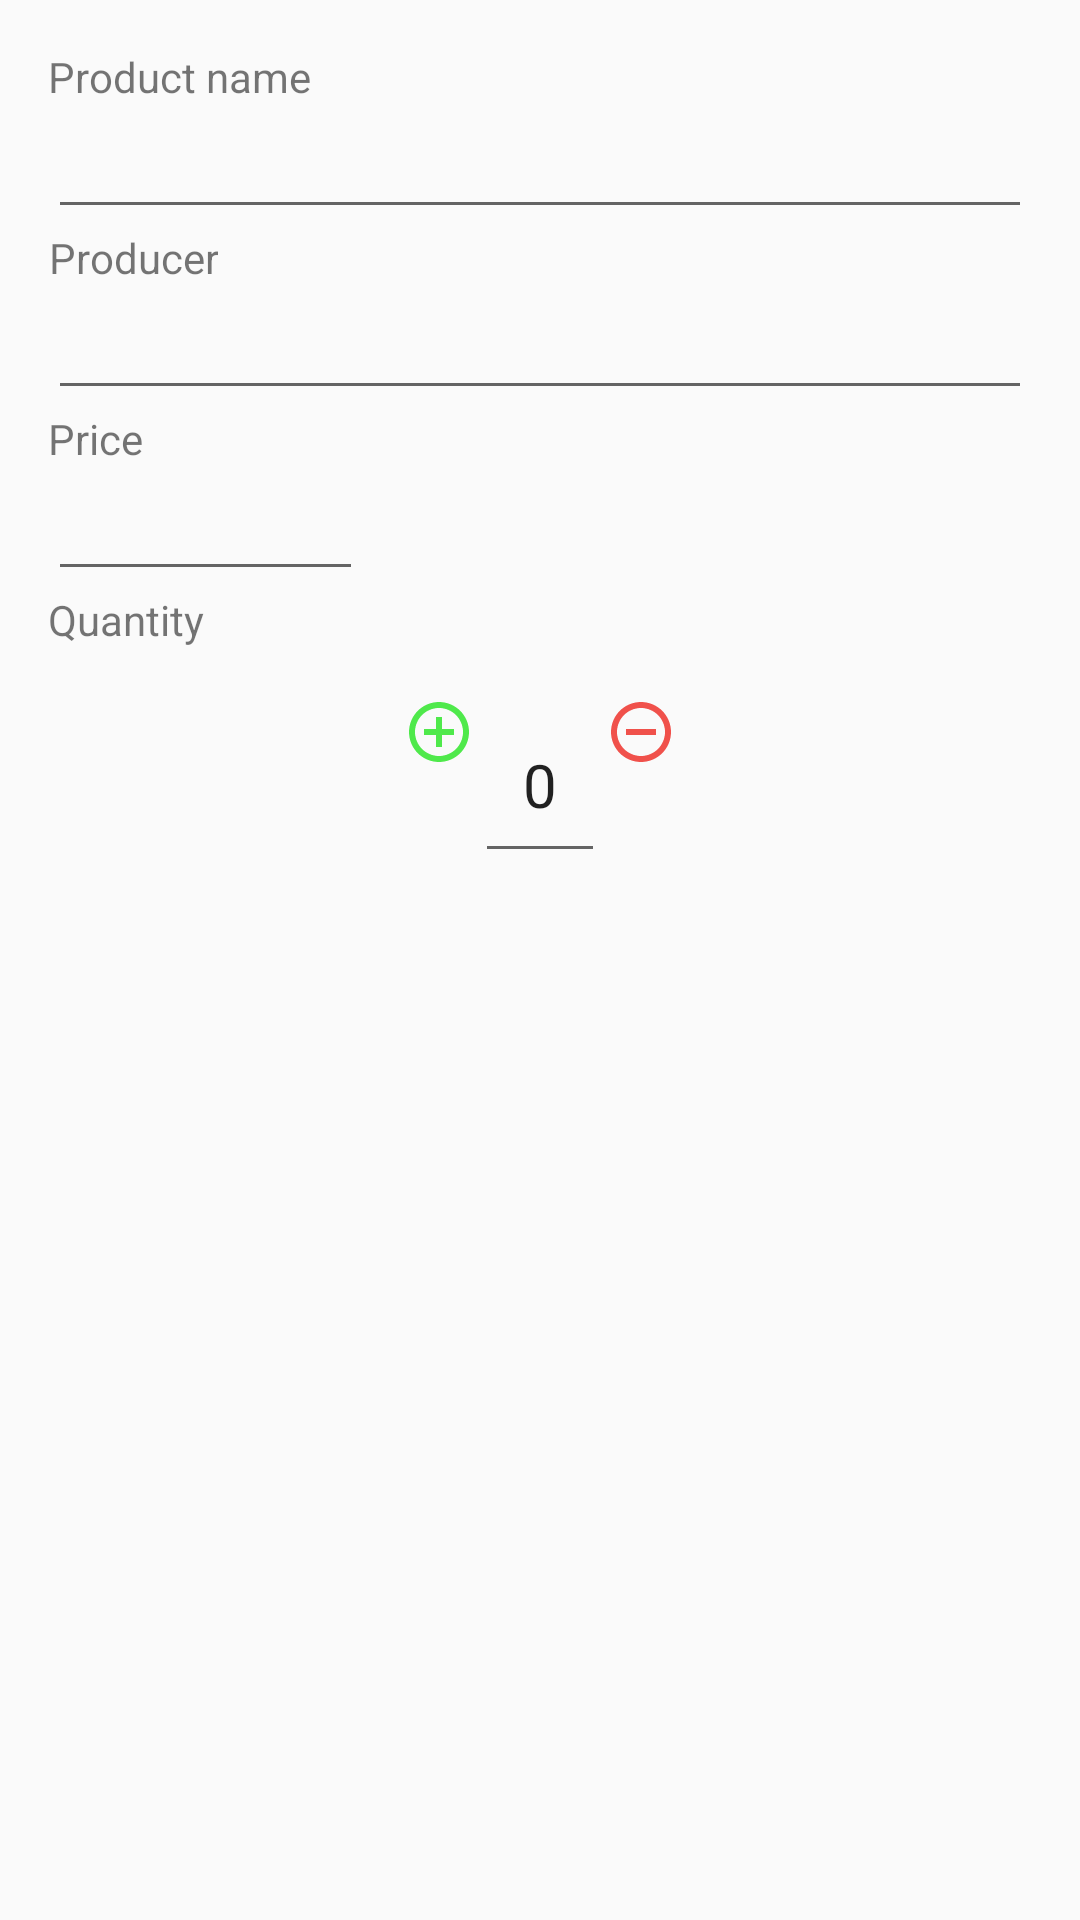

Where to tap for icons on this 1080*1920 app screen, as [x,y]:
add circle: [439,732]
remove circle: [641,732]
